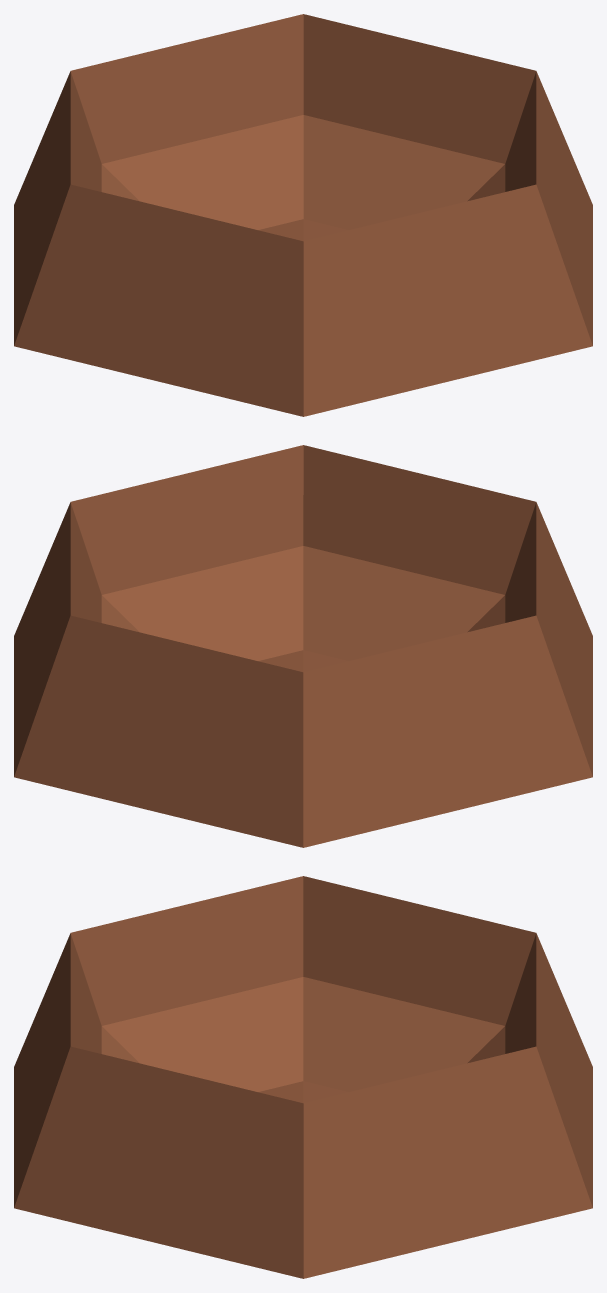
File: dog's food.fbx
The picture shows the model from 3 angles, top to bottom: view 1: azimuth 30°, elevation 25°; view 2: azimuth 150°, elevation 25°; view 3: azimuth 270°, elevation 25°; orthographic projection.
Parts seen in each view (by area): view 1: pSphere1; view 2: pSphere1; view 3: pSphere1.
Part boxes in pixels (left/top/right/bottom): pSphere1: left=14, top=14, right=592, bottom=416; pSphere1: left=14, top=445, right=592, bottom=847; pSphere1: left=14, top=876, right=592, bottom=1278.
Bounding box in the file's own units: 1.43 × 0.3496 × 1.24.
Materials: 1 (1 with a texture image).
